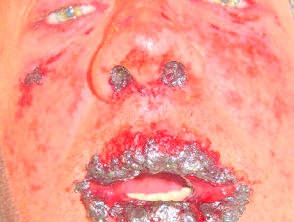SJS-TEN: (68, 125, 256, 222), (96, 48, 197, 115), (0, 60, 56, 118)
